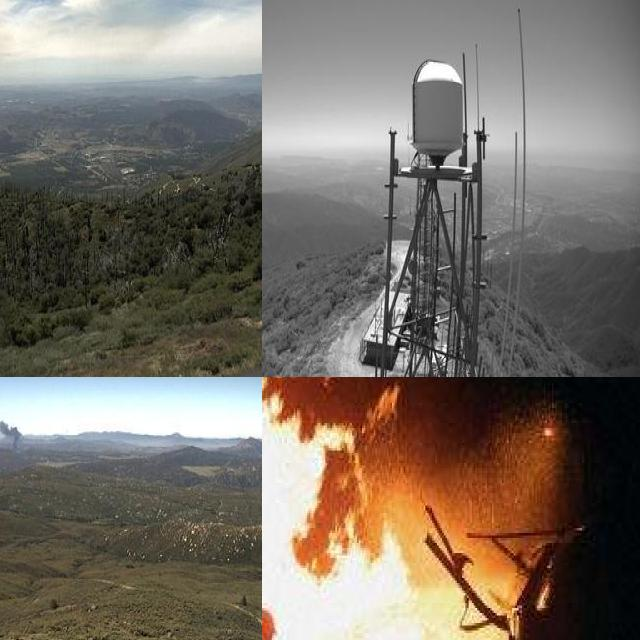fire: (262, 377, 461, 640)
smoke: (0, 413, 26, 455)
